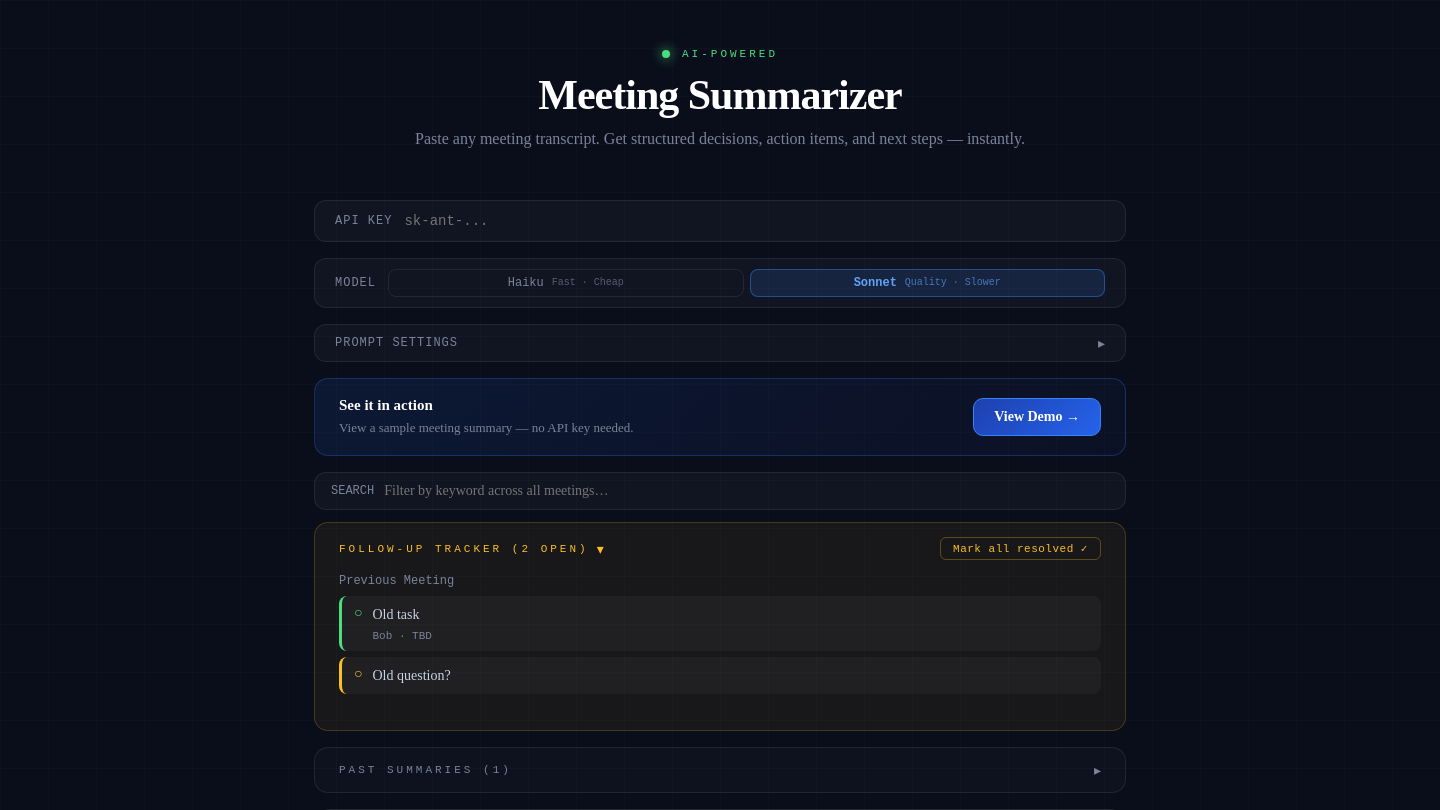
Test: follow-up tracker › resolves all items with "mark all resolved"
This screenshot has width=1440, height=810.
Click the button "Mark all resolved ✓" at (1020, 549), box [940,537,1101,560]
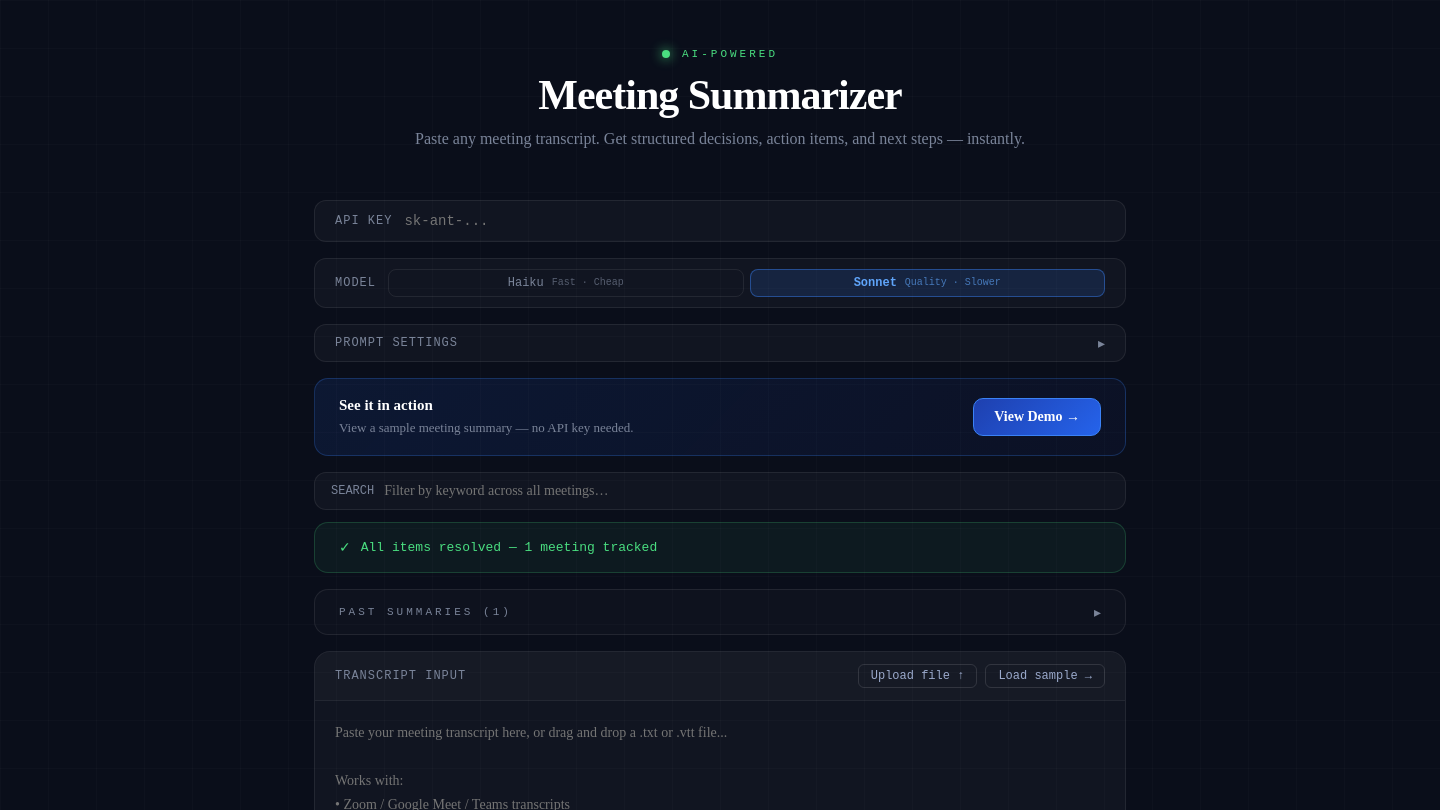
Expected: the text "All items resolved — 1 meeting tracked" is shown, [361,540,657,555]
